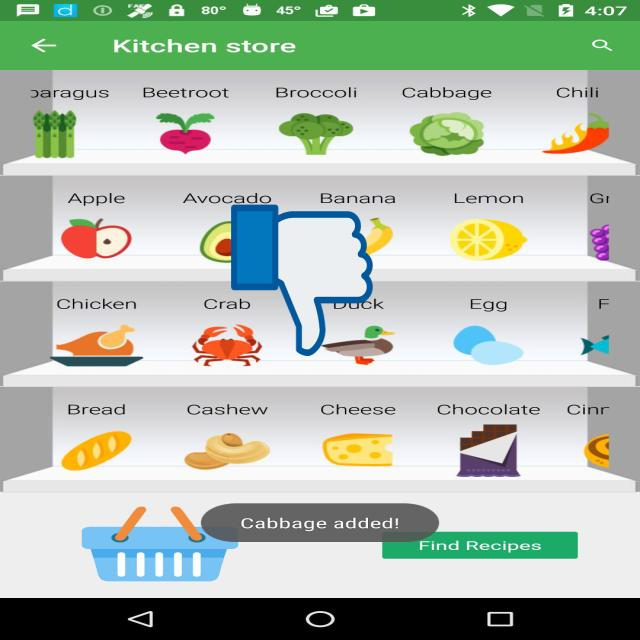obstruction: (231, 202, 373, 360)
